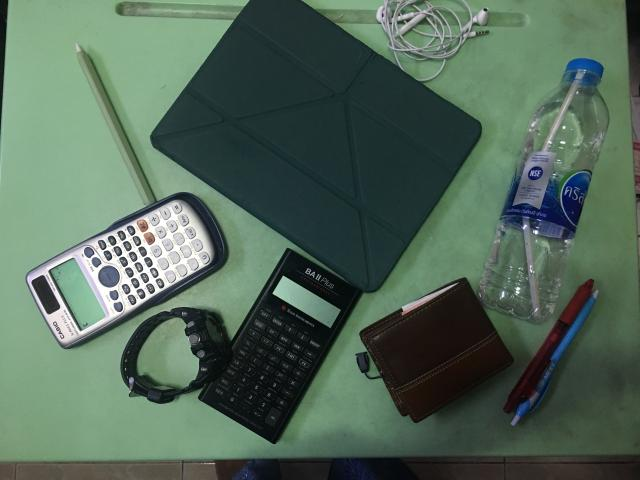Pen: (504, 279, 594, 414), (515, 291, 598, 420)
Wallet: (358, 278, 514, 422)
Watch: (121, 308, 231, 404)
bottle: (478, 59, 609, 322)
wire: (376, 0, 489, 81)
